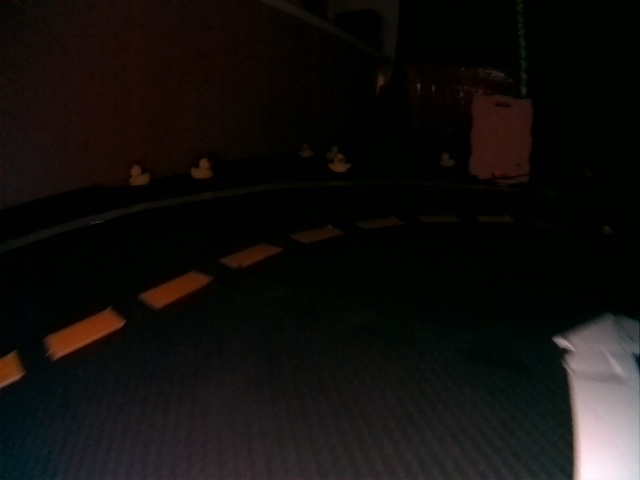Duckie: (128, 164, 150, 184), (329, 154, 350, 171), (191, 160, 211, 176), (299, 145, 313, 158), (326, 146, 338, 159), (440, 153, 452, 164)
